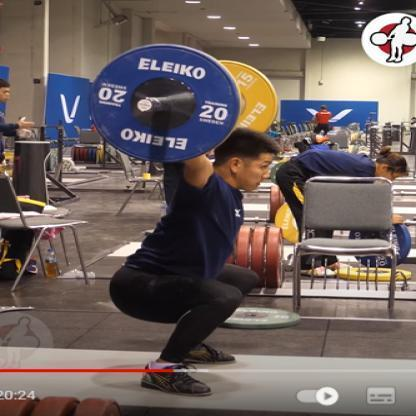barbell: (88, 42, 280, 164)
